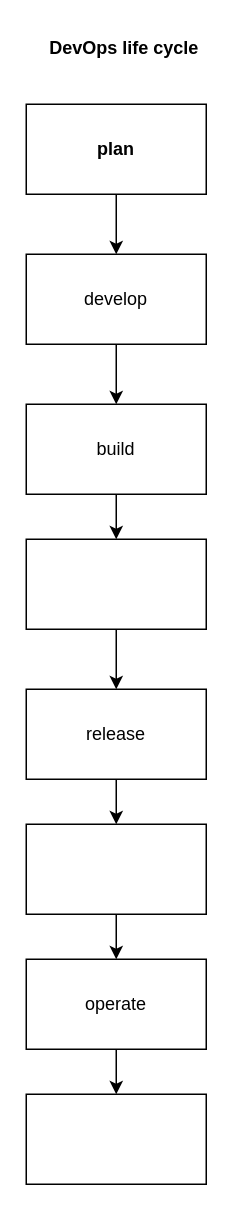
This 240x1211 diagram has some shape labels left out. Here are the shapes that lost their labels. From the top down, the centre of each, then its label:
(x=115, y=583): testing
(x=115, y=868): deploy
(x=115, y=1138): monitor
